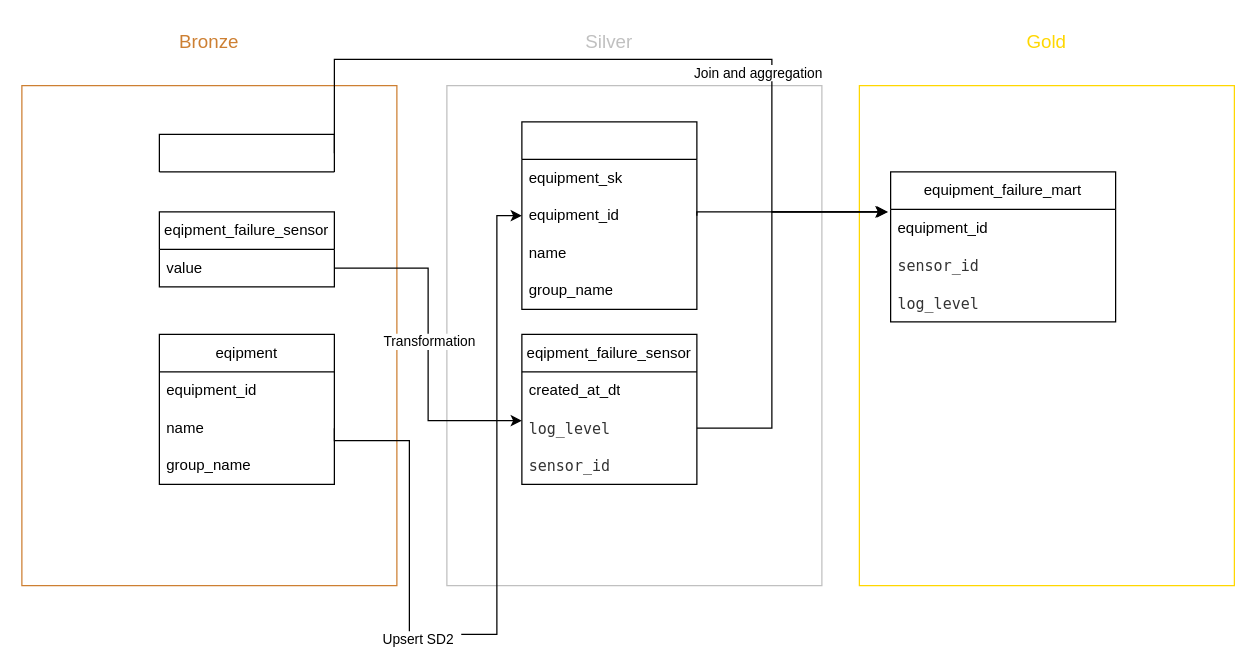
This 1256x668 diagram has some shape labels left out. Grey dashed boxes stand in for pictures. The shapes that lost their labels are listed below. From the top down, each one's box as (x1, y1, x2, y2) in pixels, then its label:
(158, 133, 334, 172): equipment_sensor
(521, 121, 697, 309): dim_equipment
